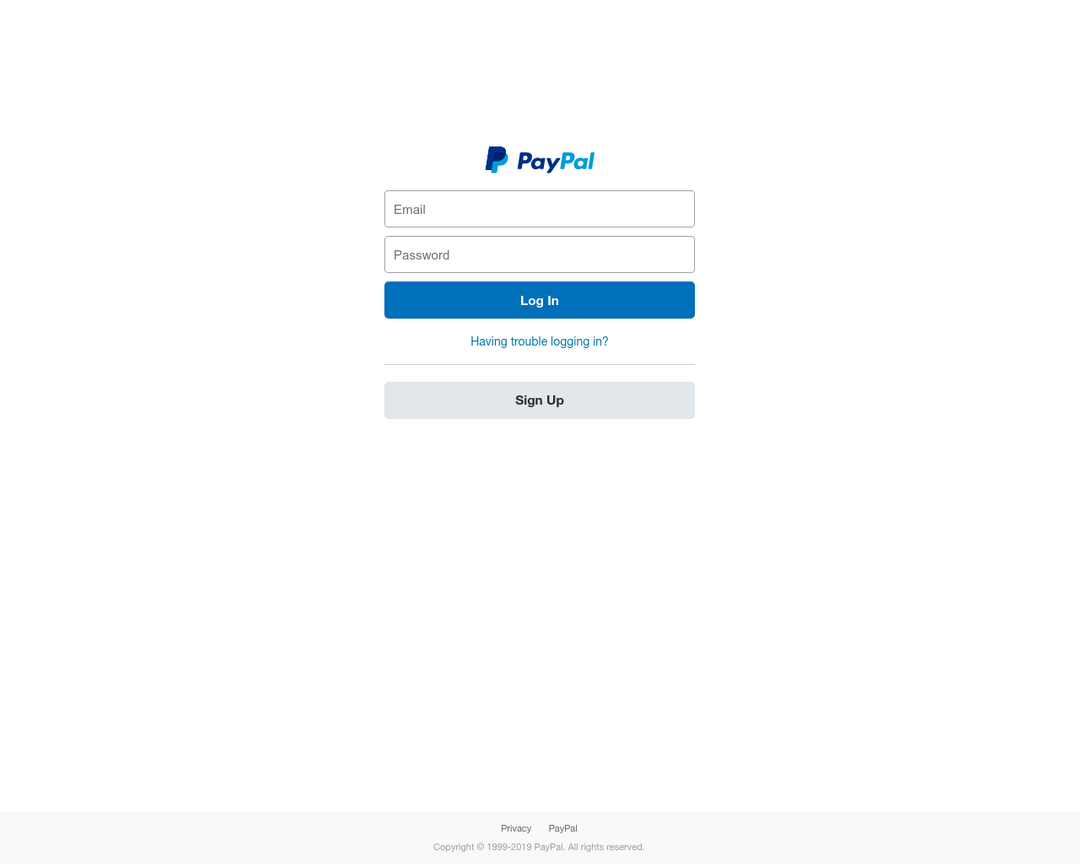Paypal: (483, 142, 599, 180)
